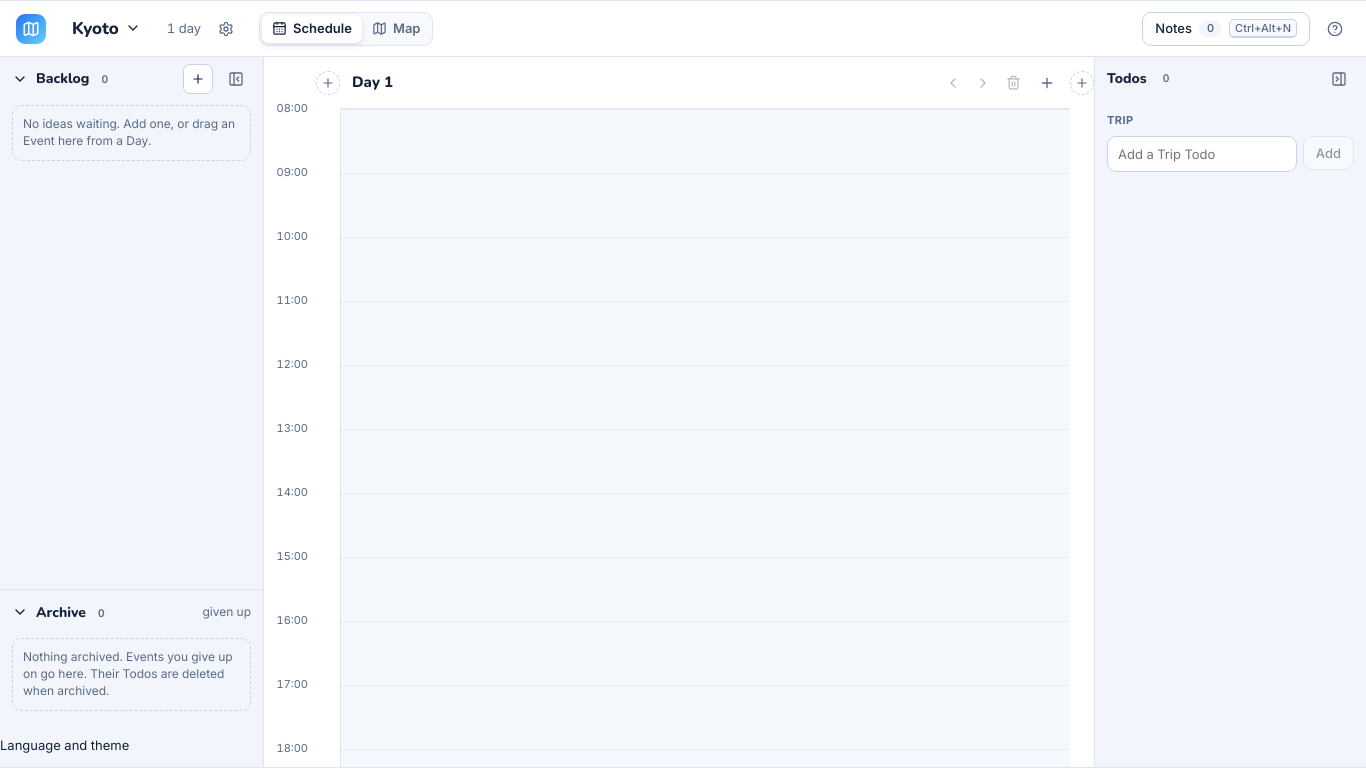
Test: Schedule and Map switch › starts on the schedule and switches to the map and back
Expected: the heading "Day 1" is shown, [352,72,393,92]
Click the button "Map". click: (396, 28)
box: [362,14,430,42]
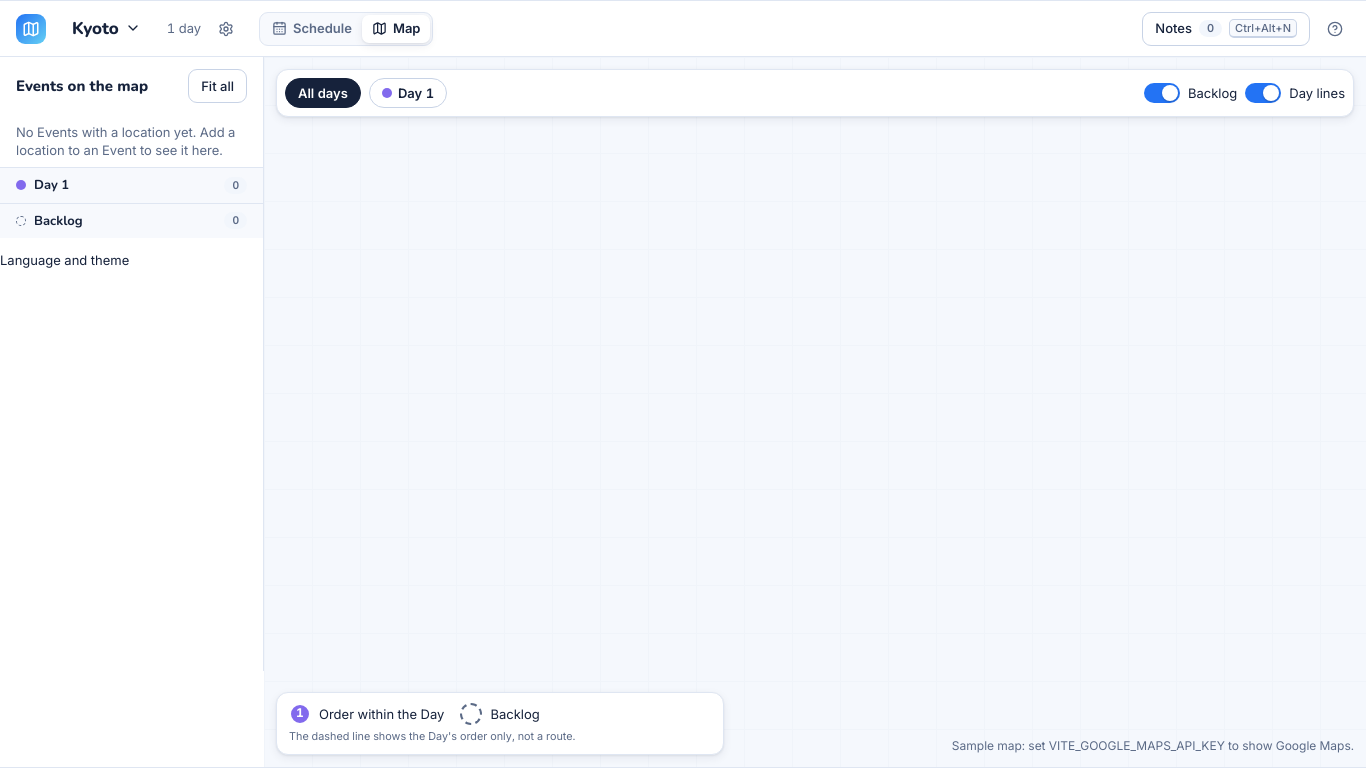
Now the element with test id "fake-map" is shown
Click the button "Schedule". click: (312, 28)
box: [262,14,362,42]
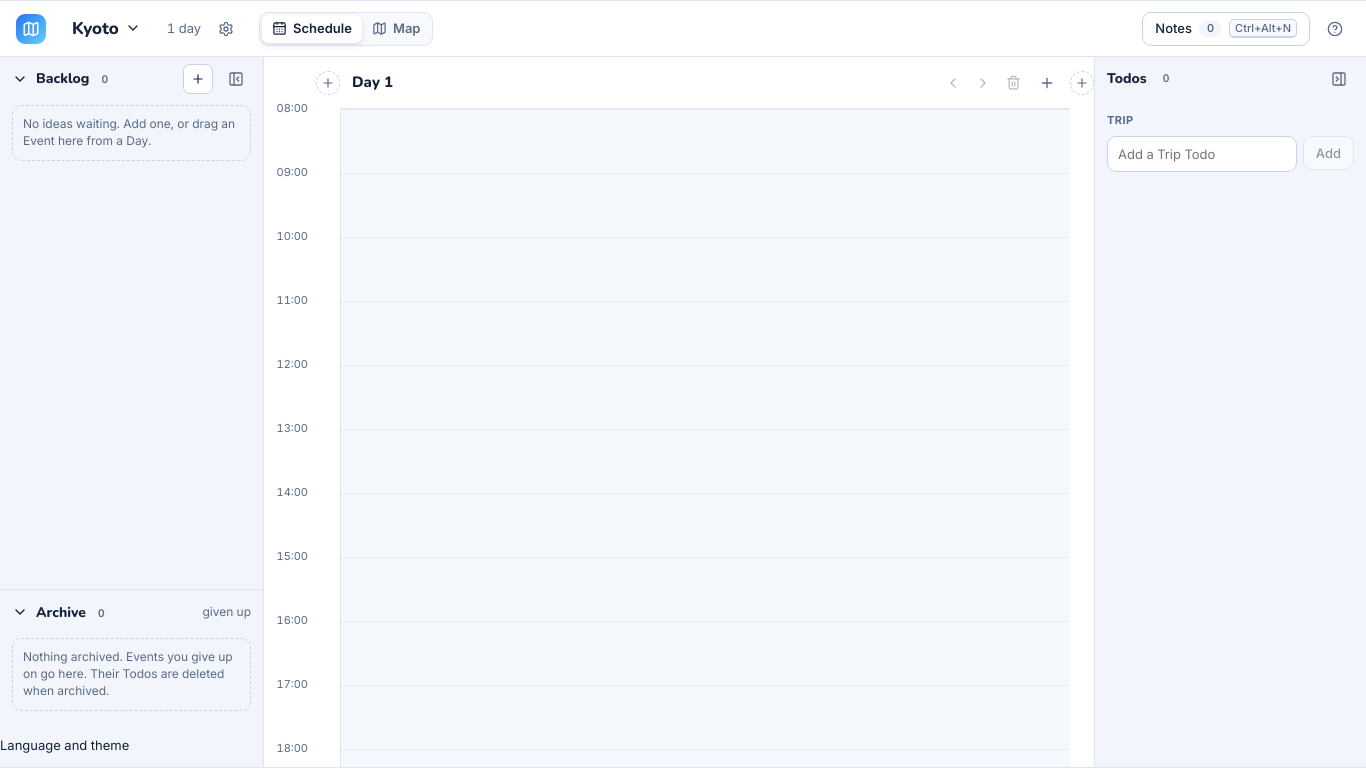
Now the element with test id "fake-map" is gone
